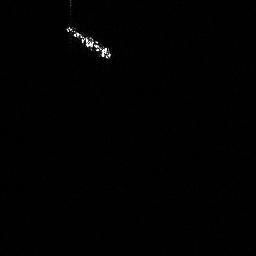ship: (63, 23, 114, 61)
